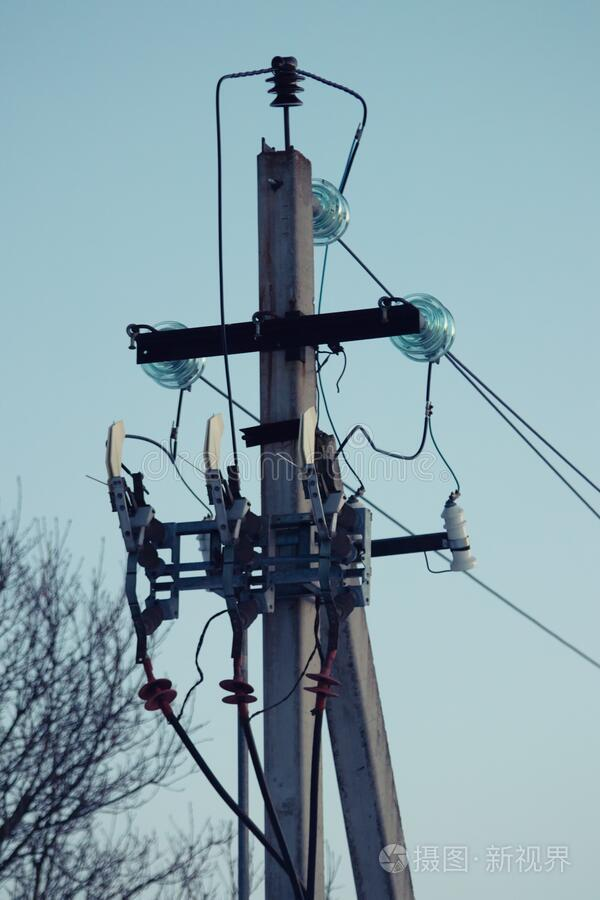insulator: (386, 293, 456, 367), (139, 320, 209, 388), (308, 178, 356, 245)
